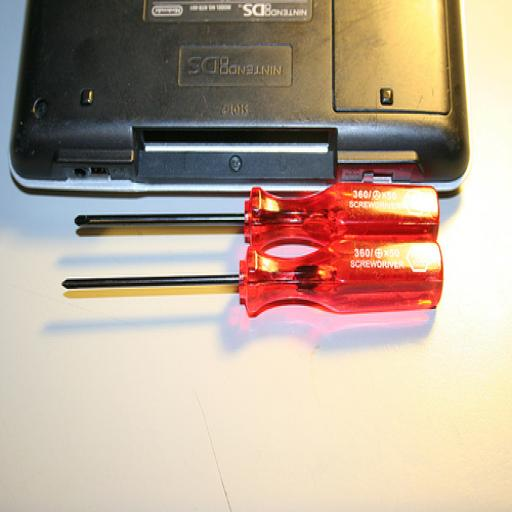screwdriver: (62, 240, 442, 318), (74, 187, 440, 237)
